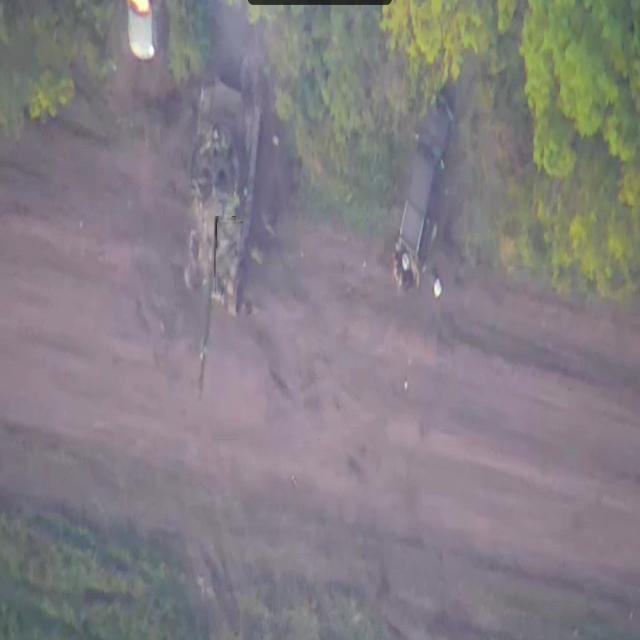MBT: (184, 74, 265, 407)
Vehicle: (394, 95, 457, 277)
